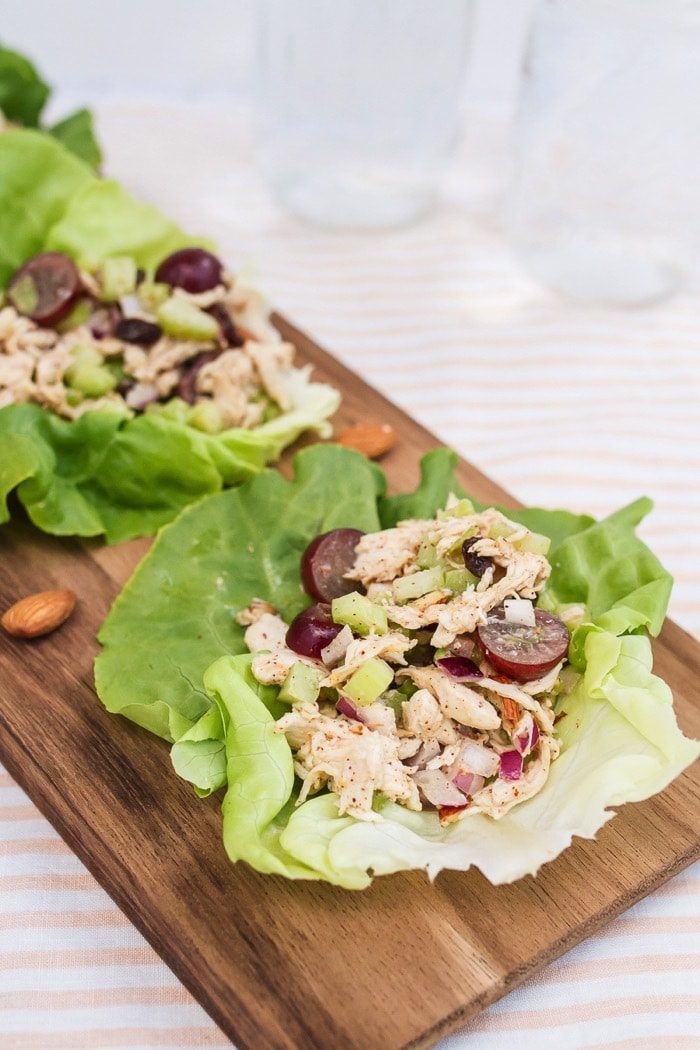chopped lettuce: (1, 417, 673, 870)
